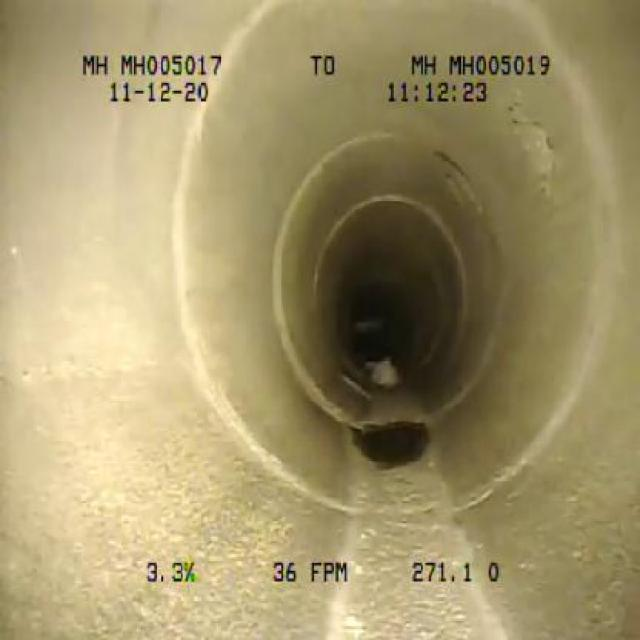Hole: (500, 85, 572, 206)
